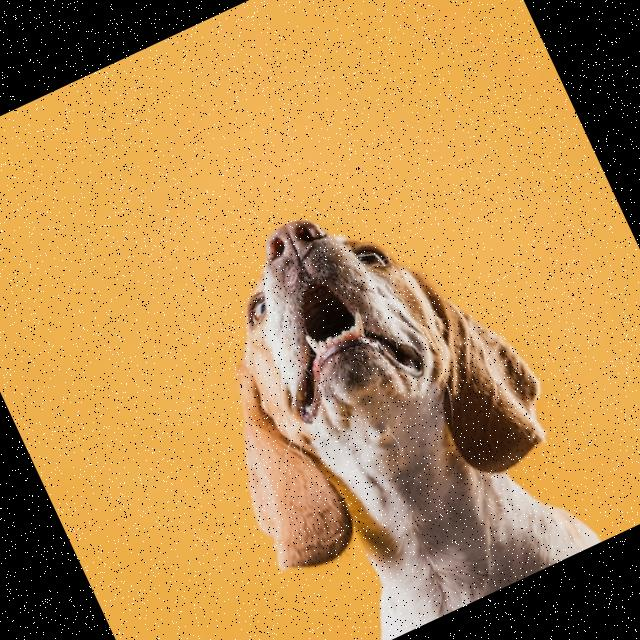Dog: (150, 152, 613, 640)
